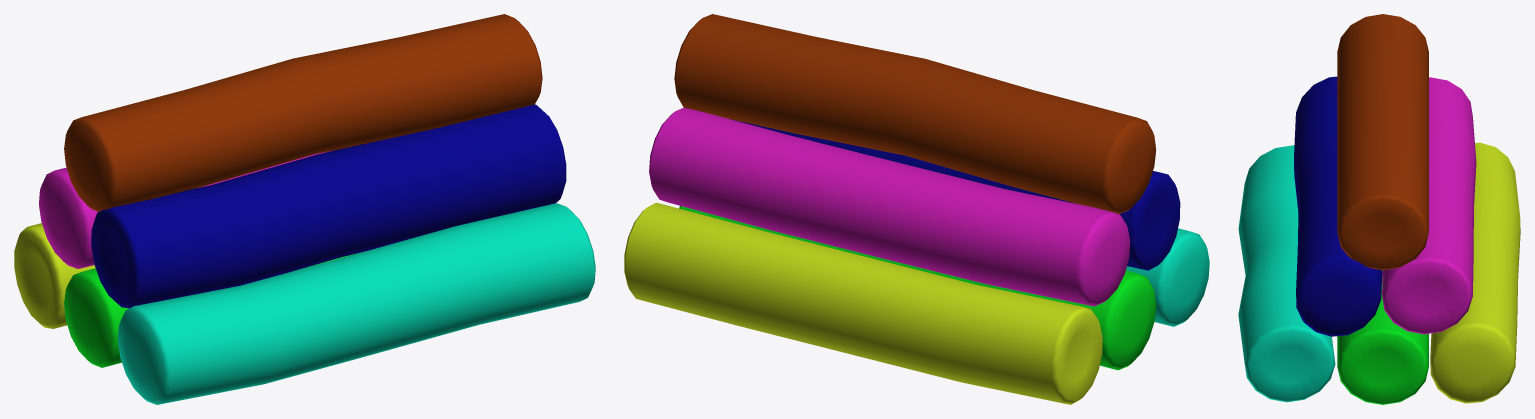
The model's file is Ddeok.fbx.
3 renders of one model, left to right at view 1: azimuth 30°, elevation 25°; view 2: azimuth 150°, elevation 25°; view 3: azimuth 270°, elevation 25°, orthographic. The views are drawn at different scales.
Parts seen in each view (by area): view 1: Ddeok; view 2: Ddeok; view 3: Ddeok.
Part boxes in pixels (x1,y1,x2,y2): Ddeok: [14, 14, 595, 404]; Ddeok: [624, 14, 1209, 404]; Ddeok: [1238, 14, 1520, 404].
Bounding box in the file's own units: 41.87 × 27.04 × 22.98.
